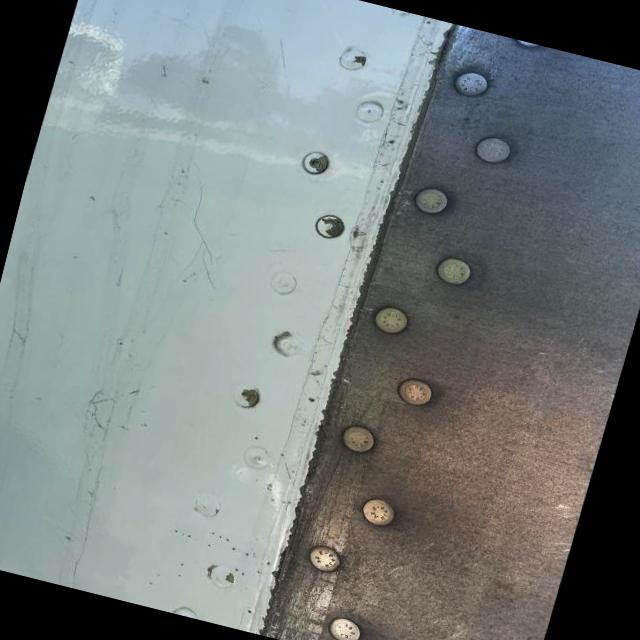crack: (142, 170, 251, 306), (81, 388, 122, 436)
